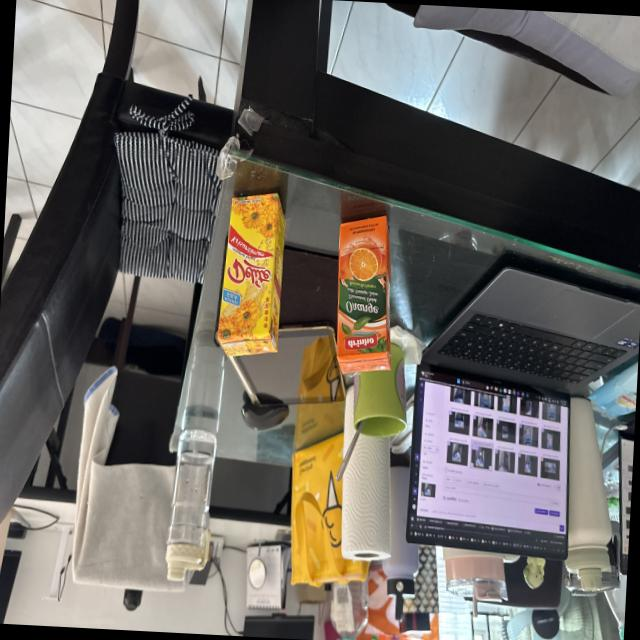drink_carton: (211, 183, 295, 370), (327, 201, 404, 384)
